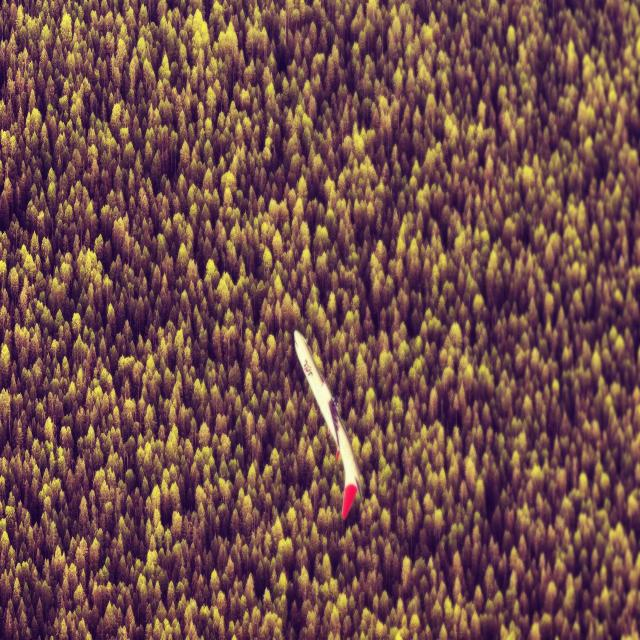airplane: (293, 328, 361, 520)
